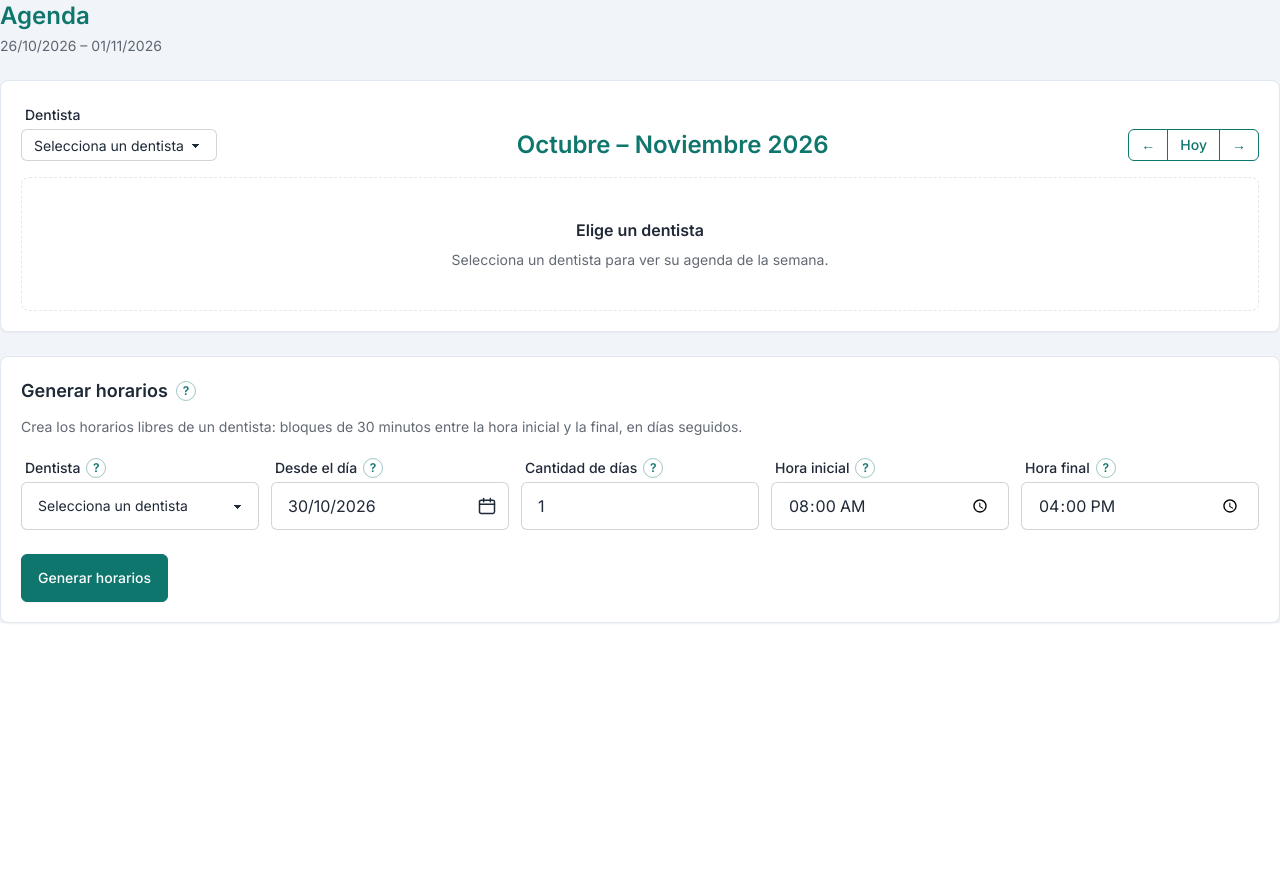
Agenda semanal › pide elegir un dentista y luego muestra la semana con sus horas y reservas
expect the text "Elige un dentista" is shown: met, box [576, 218, 704, 242]
Select "Ana Pérez" in the 1st dropdown labelled "Dentista" at (119, 145), box [21, 129, 217, 161]
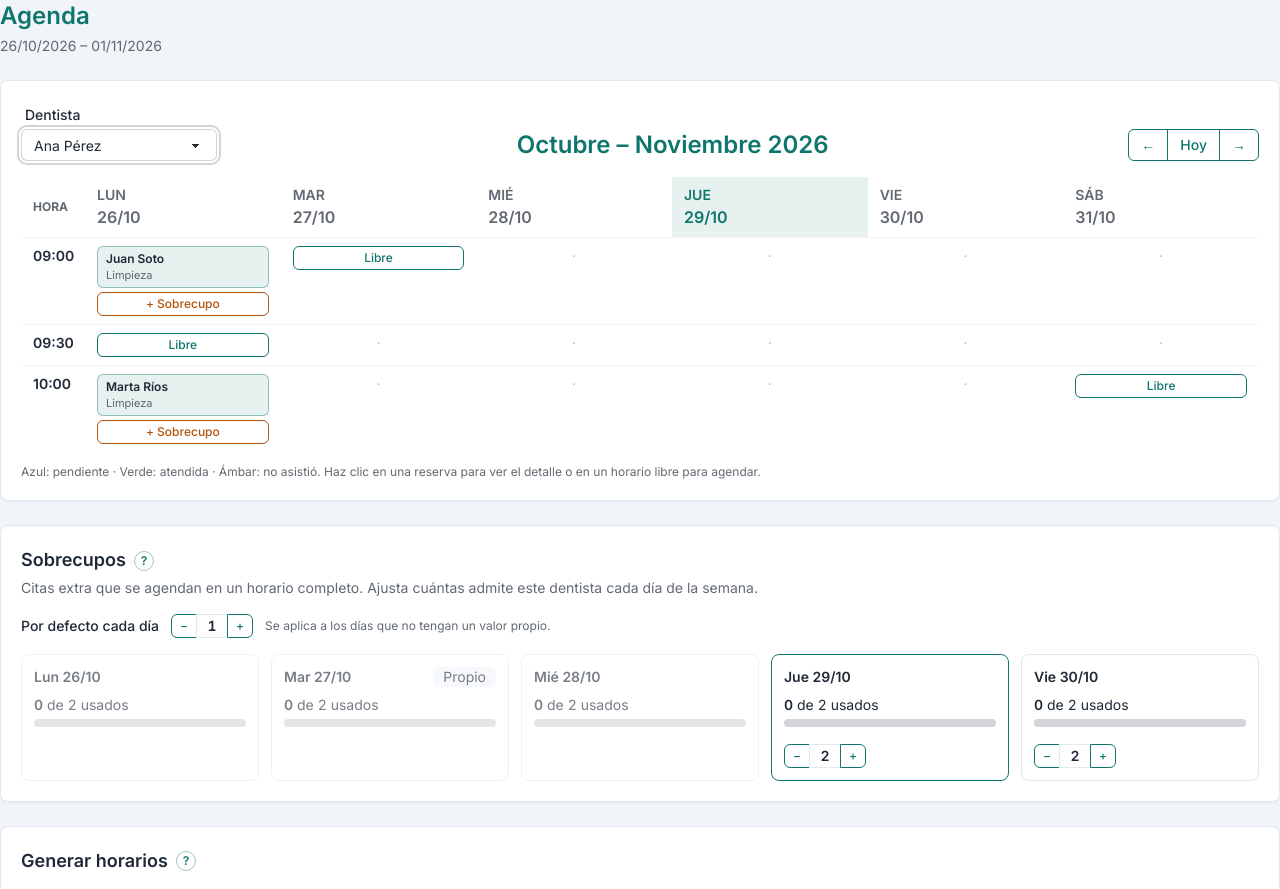
expect the button with aria-label "Reserva de Juan Soto" is shown: met, box [97, 246, 269, 288]
expect the column heading "09:30" is shown: met, box [21, 324, 85, 366]
